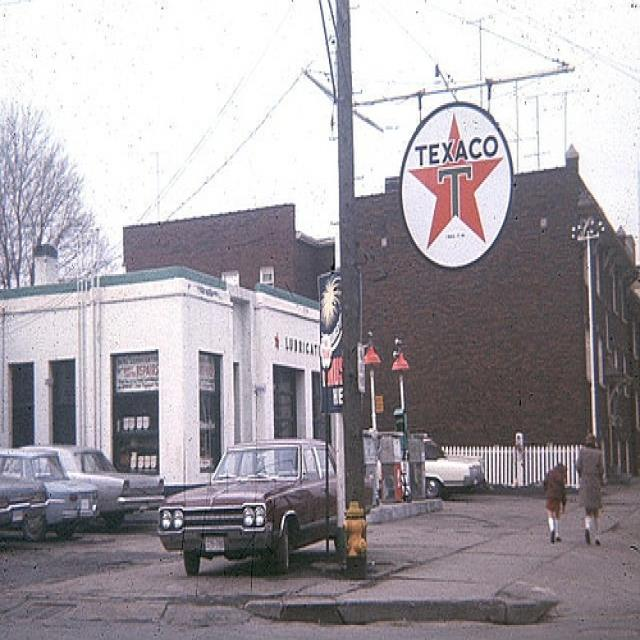texaco: (400, 105, 513, 270)
